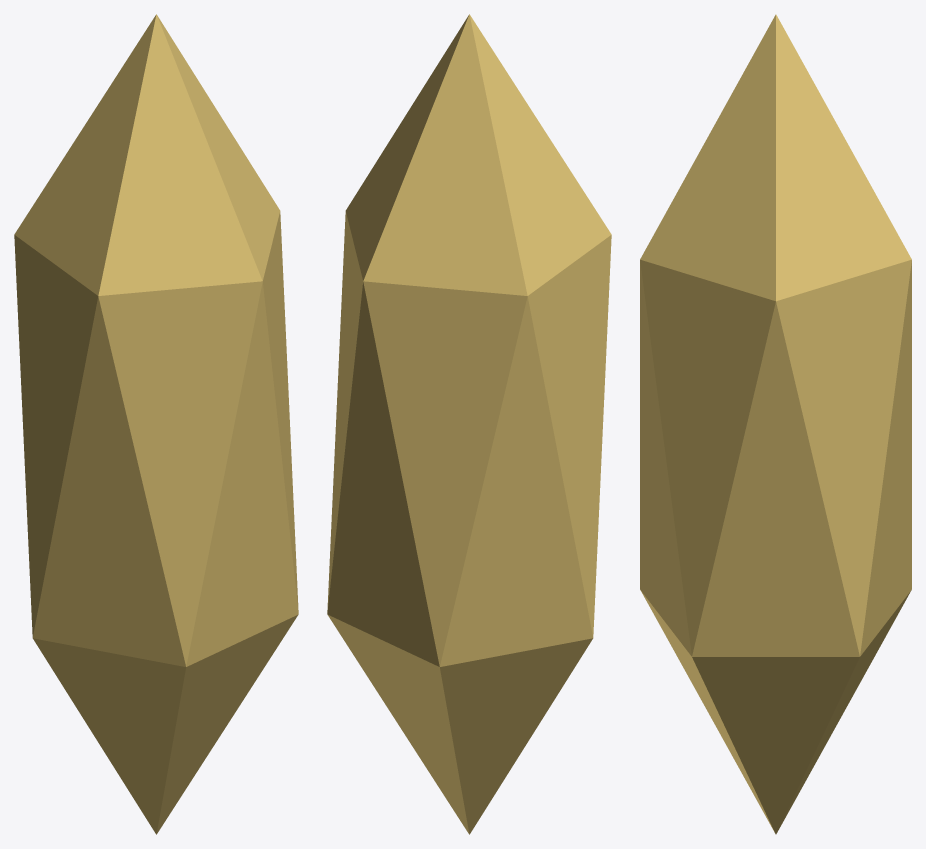
Rendered from vfx_grain.glb.
3 views of the same model, side by side, from view 1: azimuth 30°, elevation 25°; view 2: azimuth 150°, elevation 25°; view 3: azimuth 270°, elevation 25° (orthographic).
Parts seen in each view (by area): view 1: vfx_grain; view 2: vfx_grain; view 3: vfx_grain.
Boxes of the visible parts, x1=… form: vfx_grain: x1=14, y1=14, x2=298, y2=834; vfx_grain: x1=327, y1=14, x2=611, y2=834; vfx_grain: x1=640, y1=14, x2=911, y2=834.
Bounding box in the file's own units: 0.0537 × 0.17 × 0.051.
